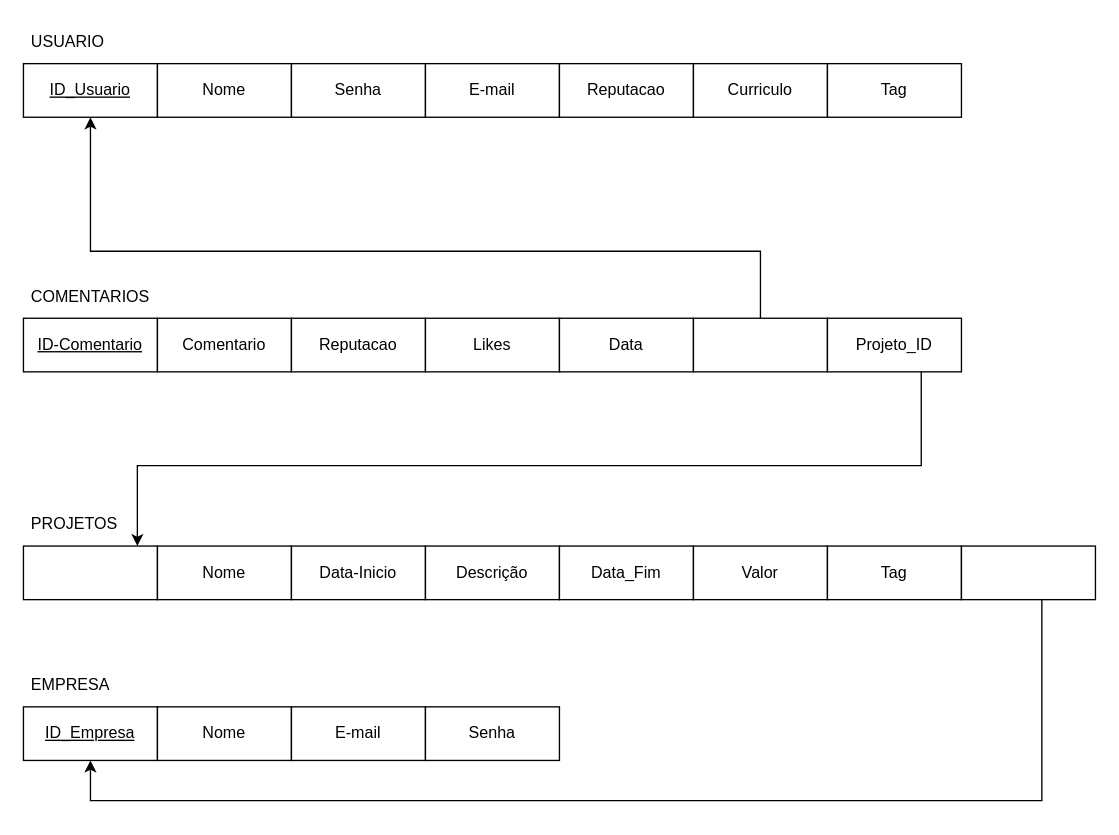
This 1119x835 diagram has some shape labels left out. The shapes that lost their labels are listed below. From the top down, each one's box as (x1, y1, x2, y2) in pixels, then its label:
(692, 317, 827, 372): Usuario_ID
(22, 545, 157, 600): ID_Projeto
(960, 545, 1095, 600): Empresa_ID
